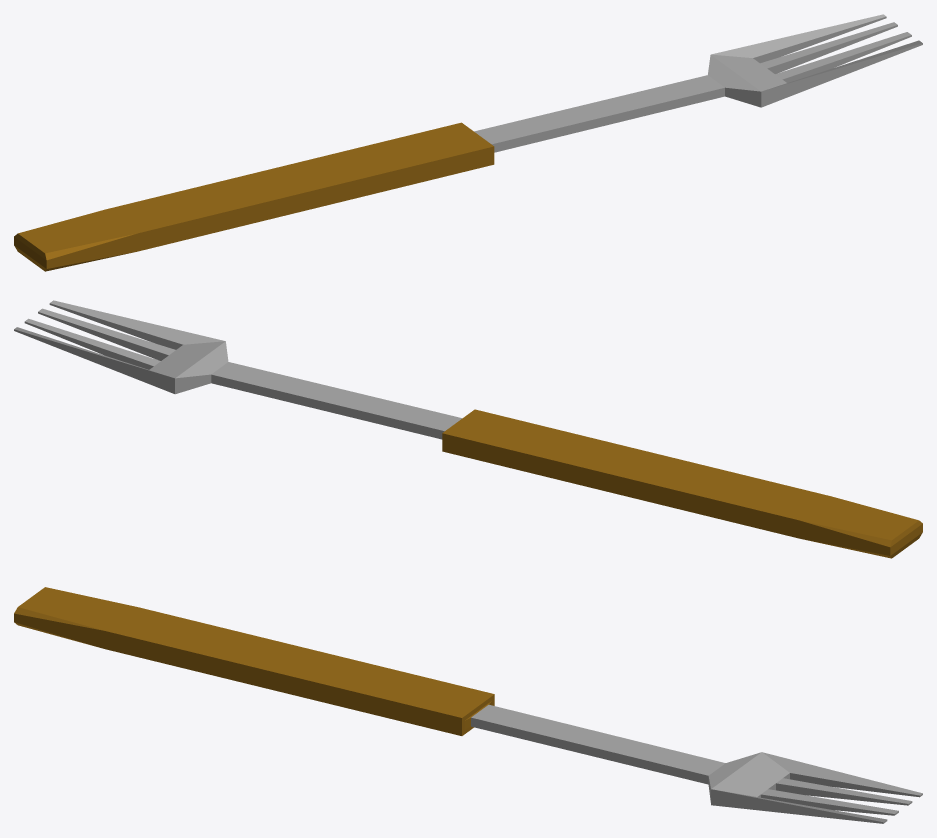
The model's file is tablefork01.gltf.
3 views of the same model, one above another, from view 1: azimuth 30°, elevation 25°; view 2: azimuth 150°, elevation 25°; view 3: azimuth 330°, elevation 25° (orthographic).
Visible parts, largest first — view 1: Cube; view 2: Cube; view 3: Cube.
Part boxes in pixels (x1,y1,x2,y2): Cube: (14,14,922,271); Cube: (14,300,922,558); Cube: (14,587,922,823).
Size of the model in its own units: 0.1903 by 0.0043 by 0.0192.
Materials: 1 (1 with a texture image).
